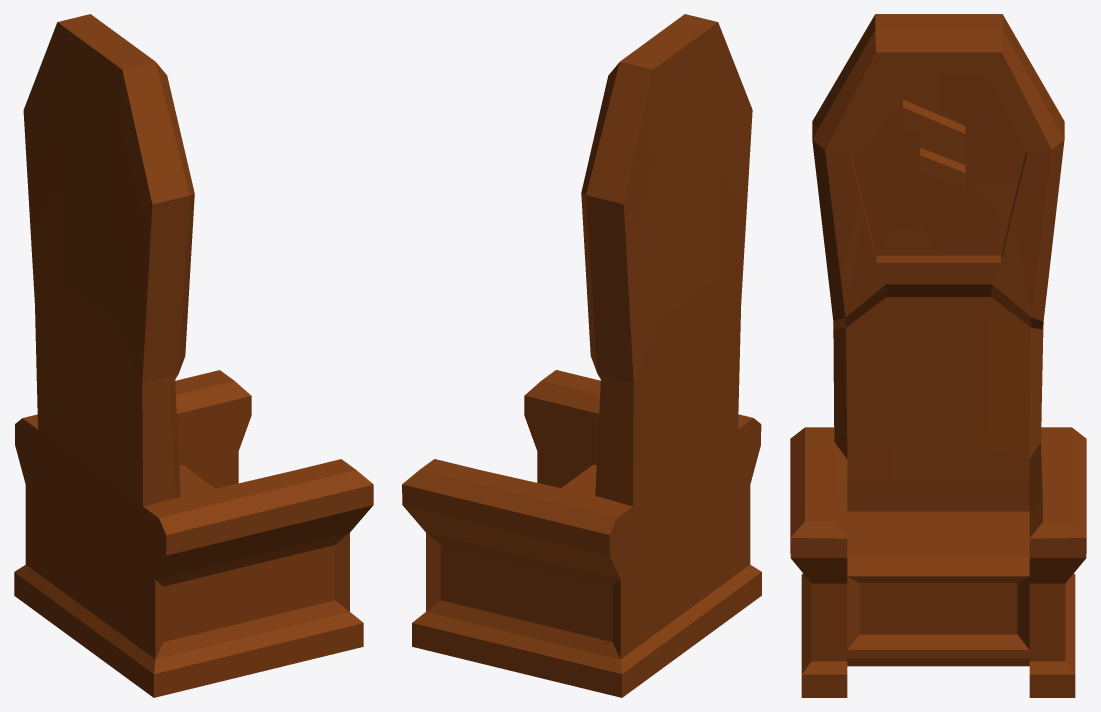
Rendered from hlidskjalf.fbx.
3 views of the same model, side by side, from view 1: azimuth 30°, elevation 25°; view 2: azimuth 150°, elevation 25°; view 3: azimuth 270°, elevation 25° (orthographic). The views are drawn at different scales.
Parts seen in each view (by area): view 1: Cube; view 2: Cube; view 3: Cube.
Part boxes in pixels (left/top/right/bottom): Cube: left=14, top=14, right=373, bottom=697; Cube: left=402, top=14, right=761, bottom=697; Cube: left=790, top=14, right=1086, bottom=697.
Bounding box in the file's own units: 266 × 711 × 326.
